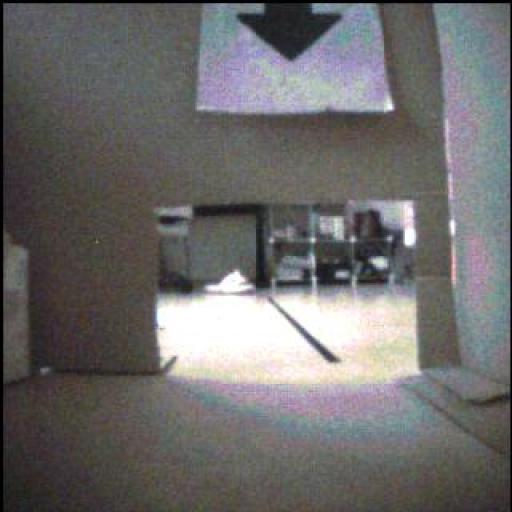arrow: (240, 4, 344, 62)
